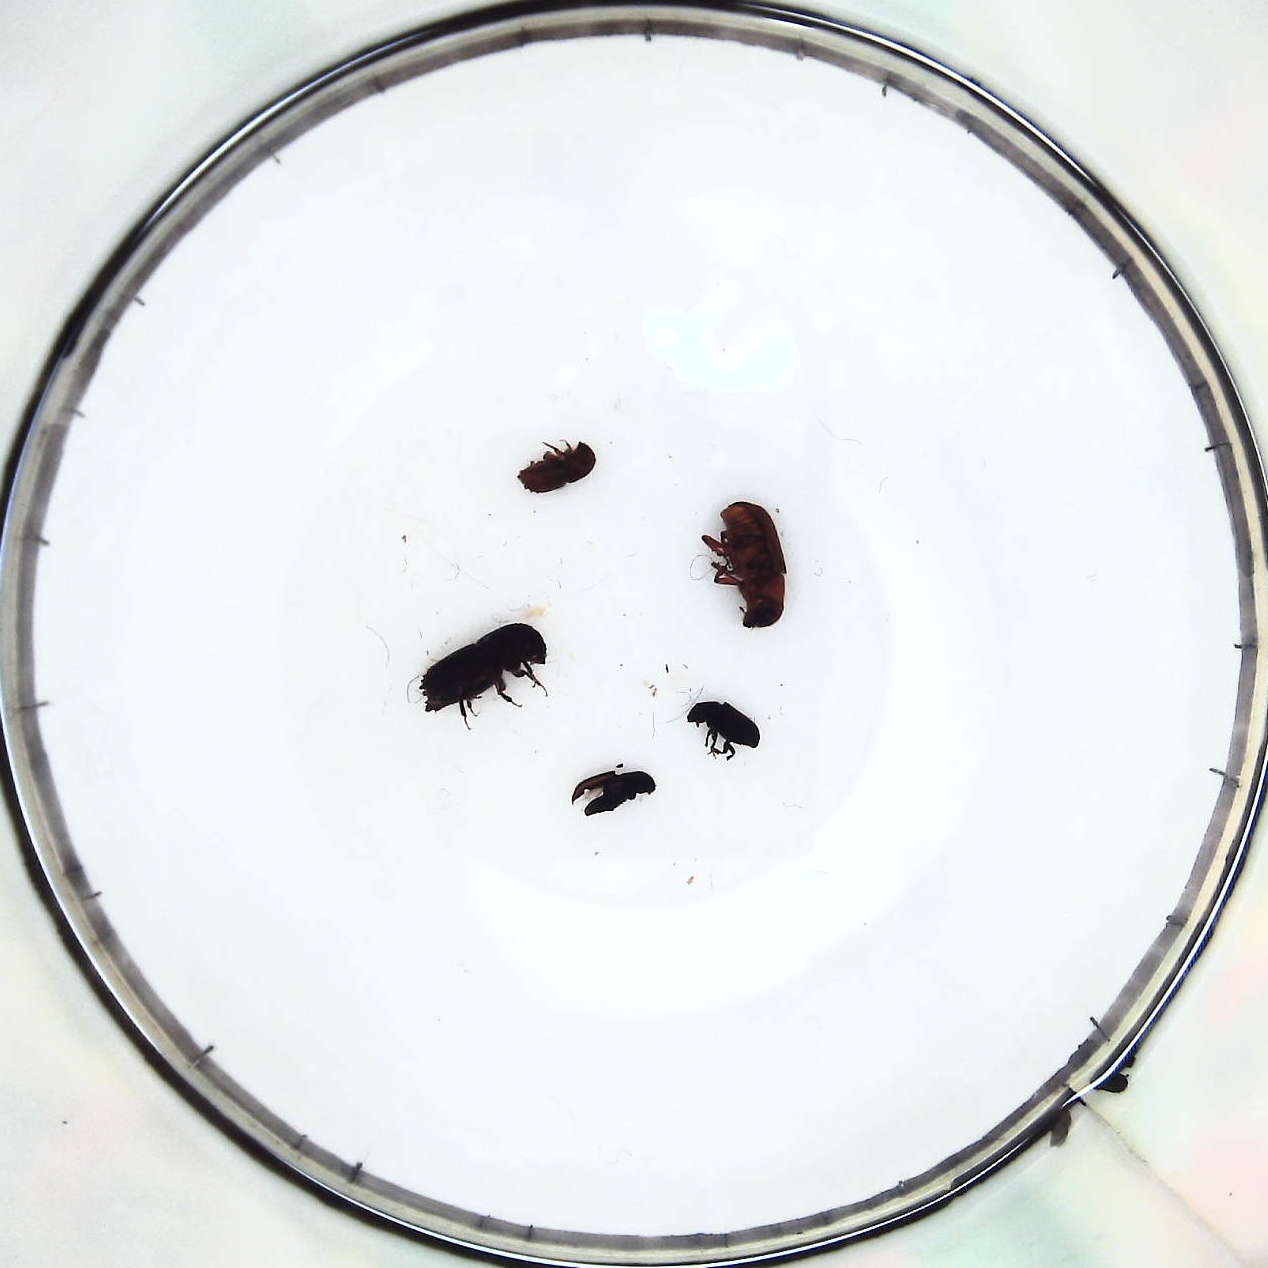Boerner: (422, 622, 552, 715)
Leconte: (705, 495, 790, 632)
Linnaeus: (518, 444, 605, 492)
armandi: (572, 765, 651, 821)
coleoptera: (685, 703, 761, 752)
